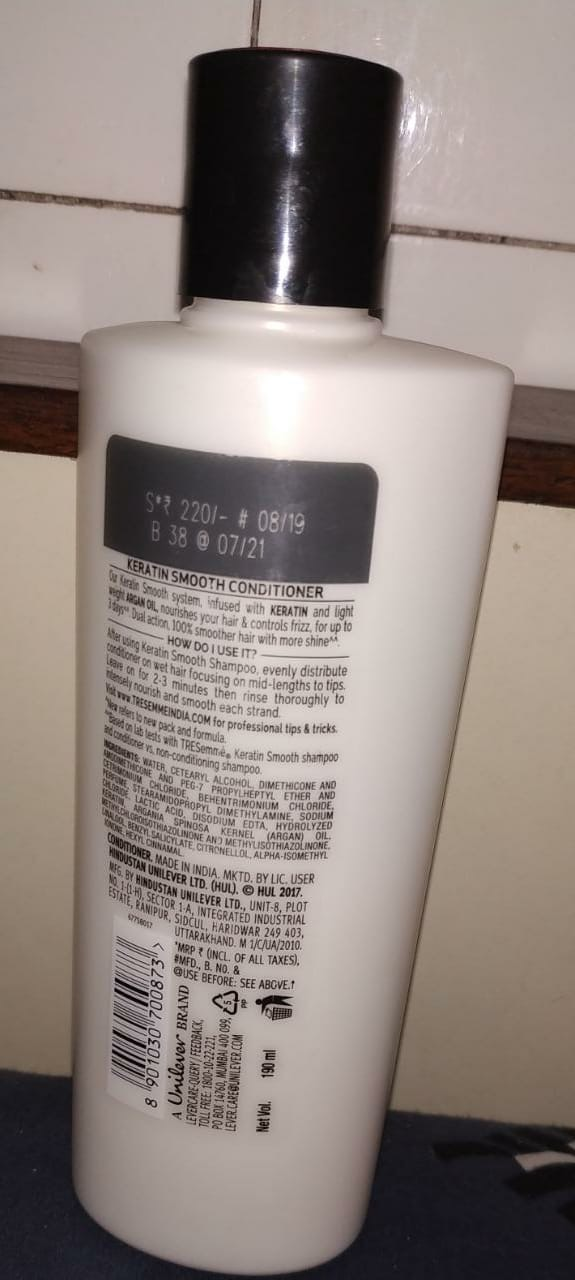barcode: (108, 921, 170, 1121)
